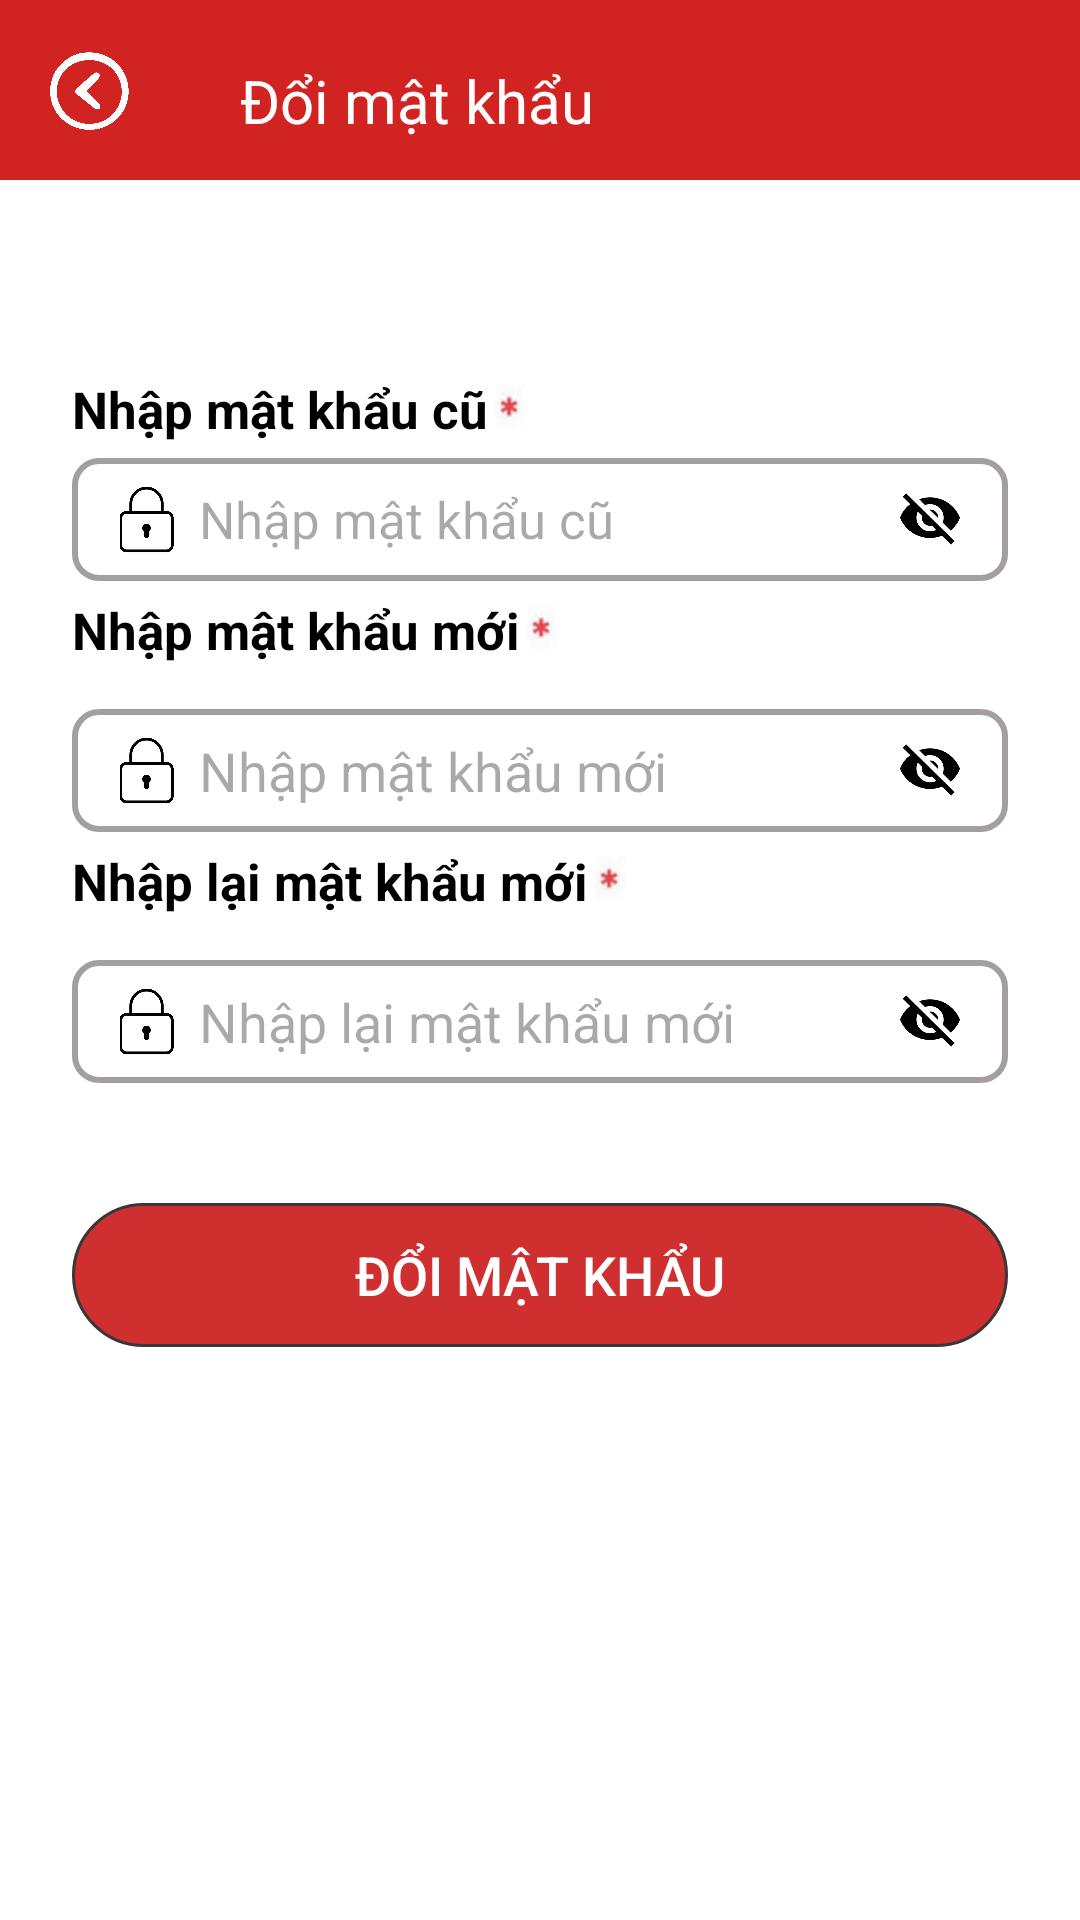

Icons on this 1080w x 1920h Android screen, each with its box as (x1, y1, x2, y2):
anmk: (900, 493, 960, 545), (900, 744, 960, 796), (900, 995, 960, 1047)
matkhau: (120, 487, 174, 552), (120, 738, 174, 803), (120, 989, 174, 1054)
